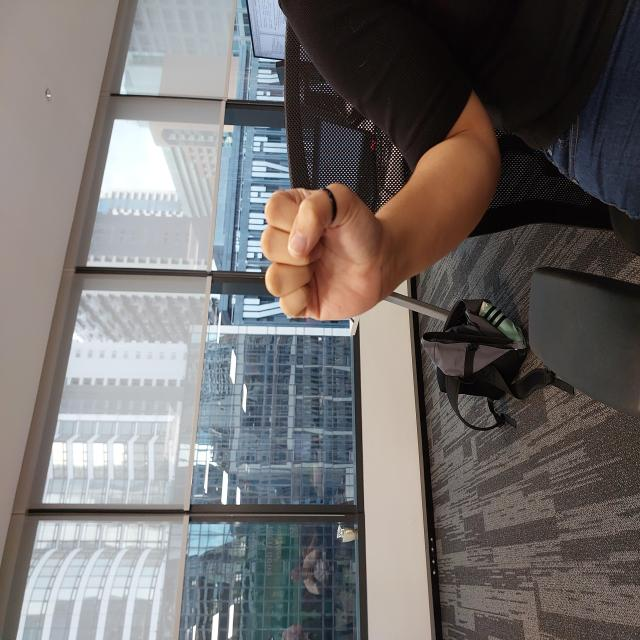S: (317, 258, 459, 394)
